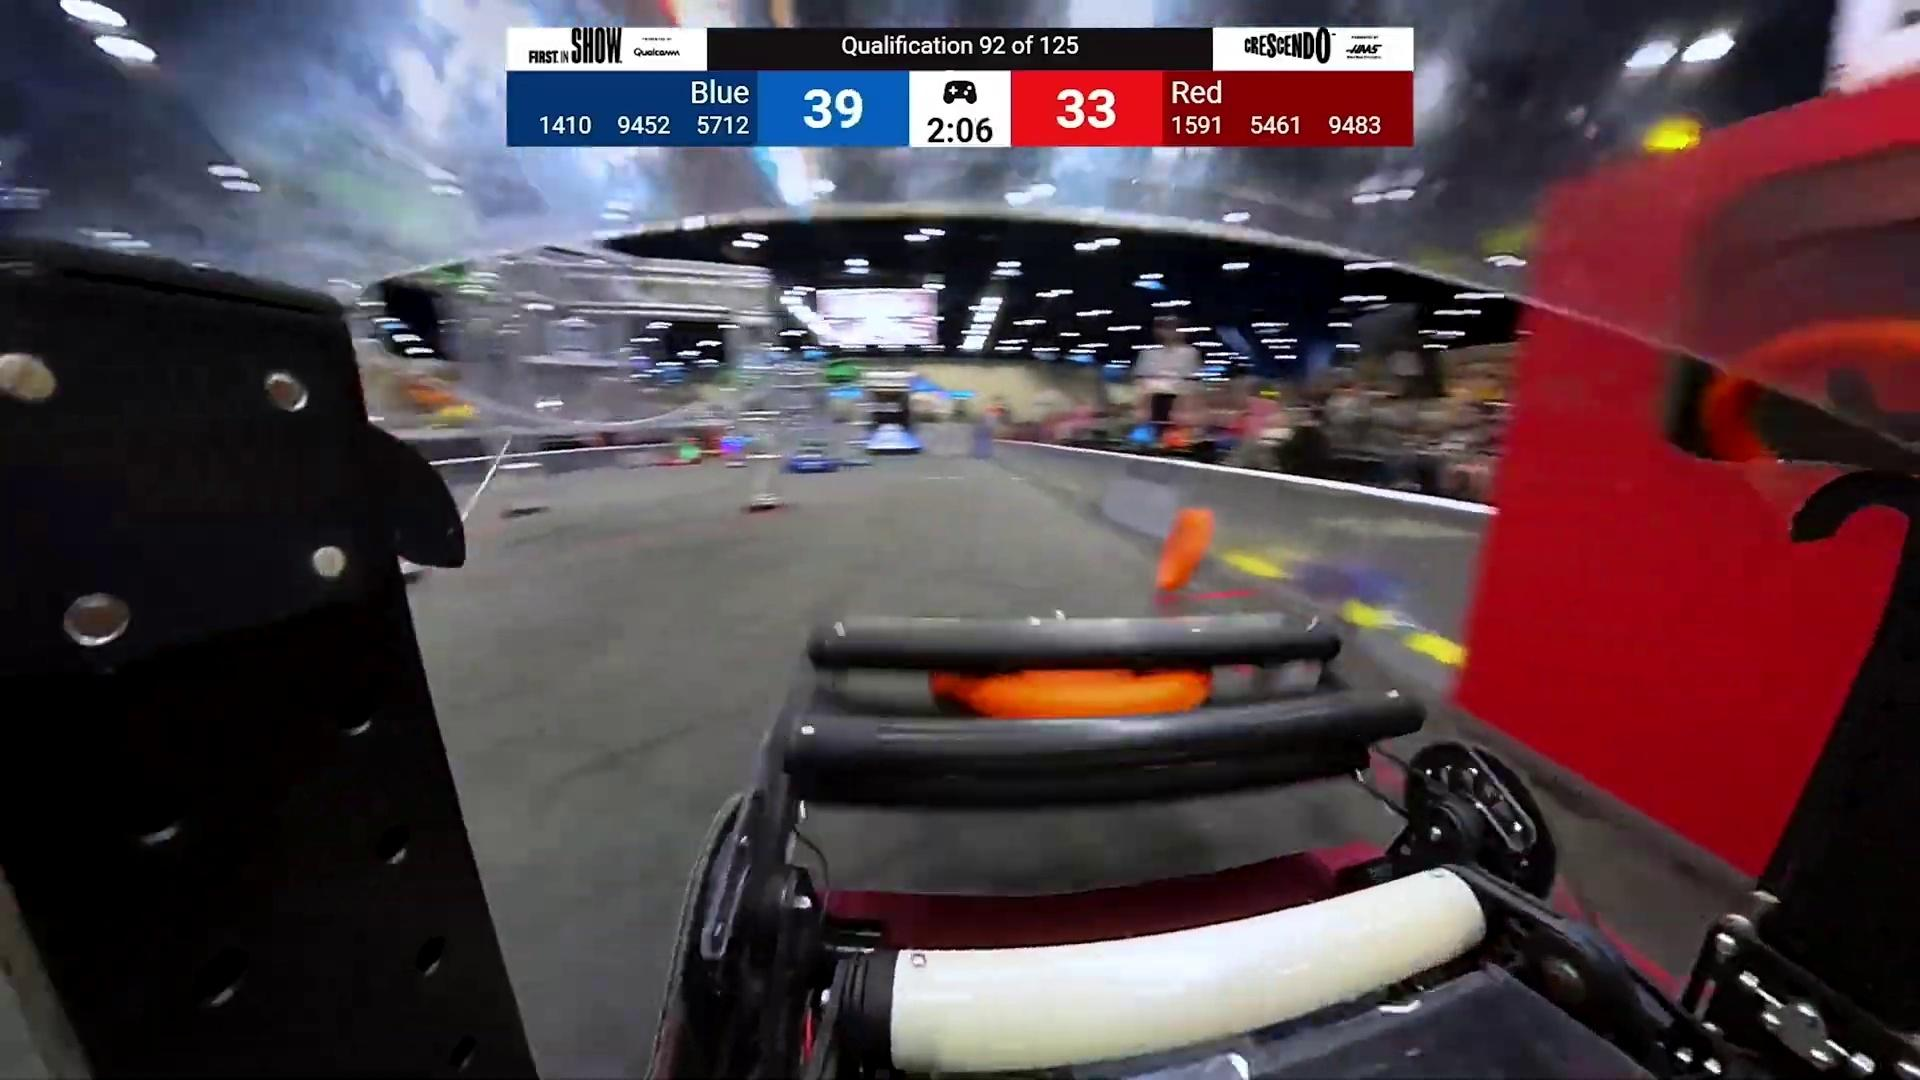robot: (781, 436, 840, 475), (655, 438, 703, 467)
